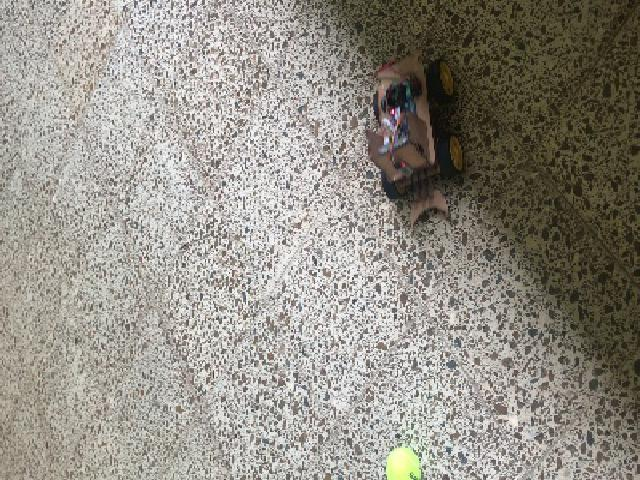Ball: (386, 446, 419, 479)
Robot: (368, 47, 462, 218)
